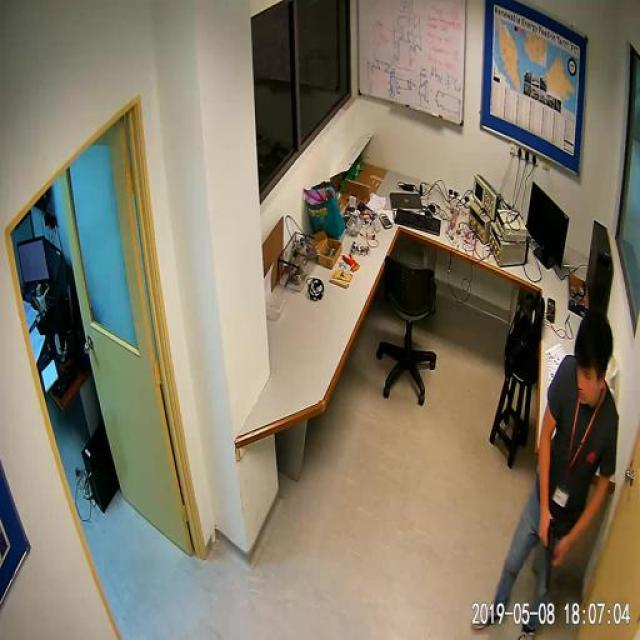Gun: (535, 504, 564, 598)
